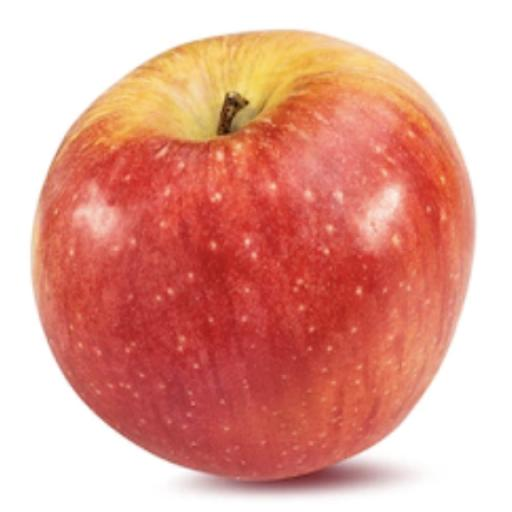apple: (34, 32, 474, 479)
